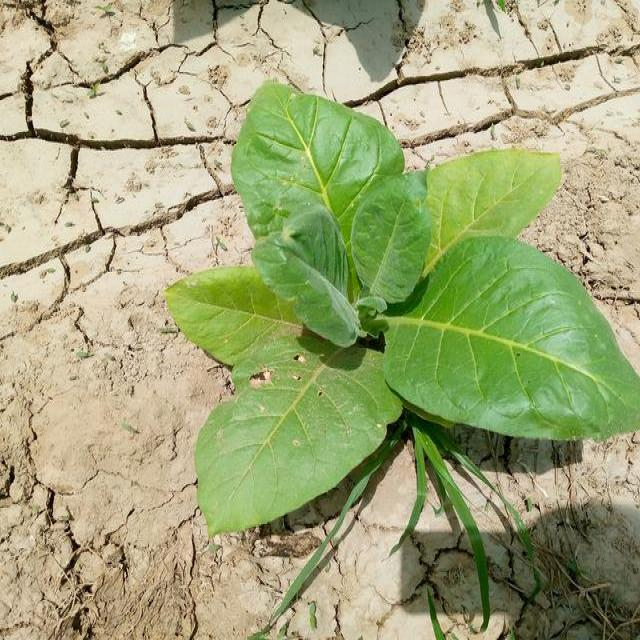crop: (163, 74, 640, 538)
